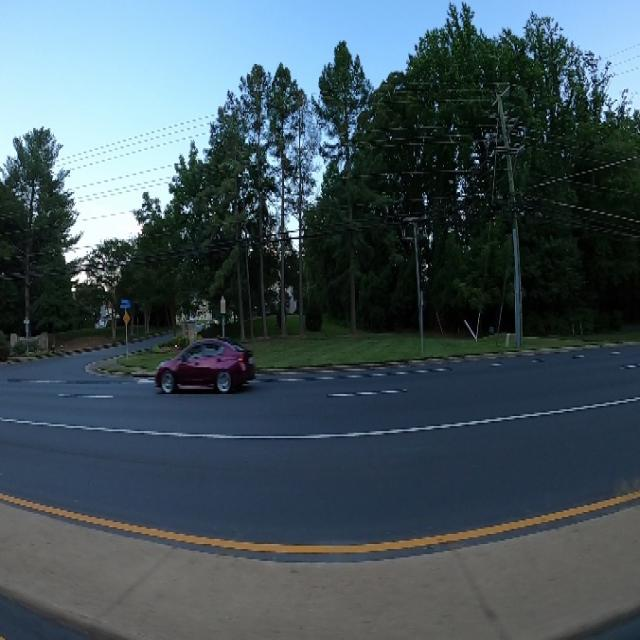car: (141, 320, 254, 399)
